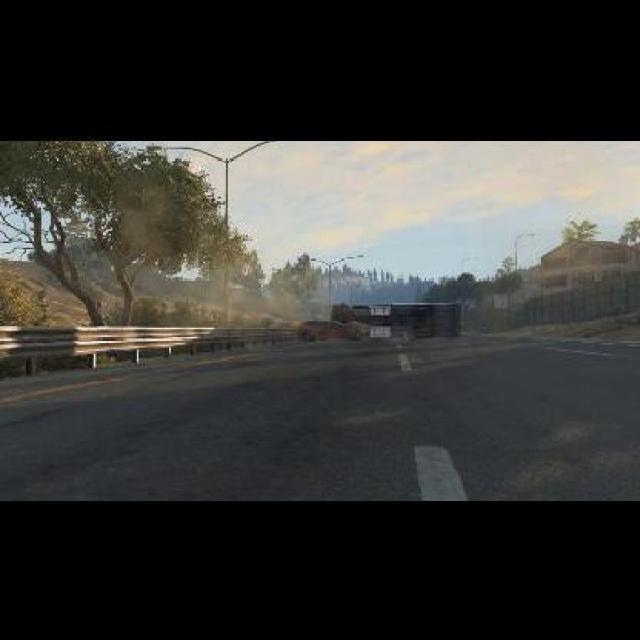accident: (296, 297, 467, 340)
